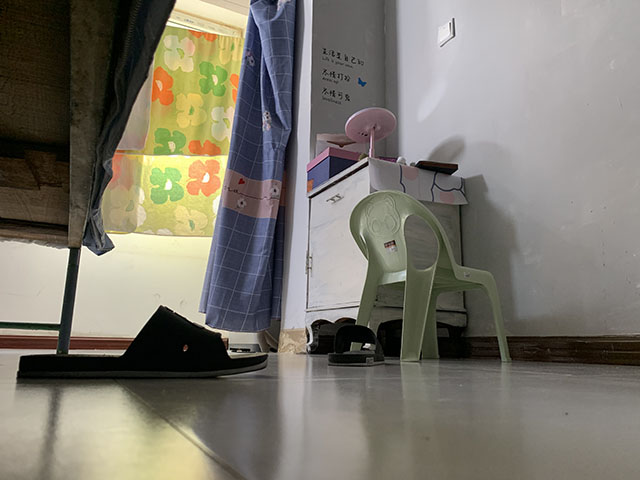bed: (1, 1, 177, 355)
cabinet: (304, 156, 470, 354)
curtain: (198, 1, 299, 334)
slippers: (15, 303, 269, 382), (326, 323, 387, 367)
stool: (348, 189, 514, 364)
